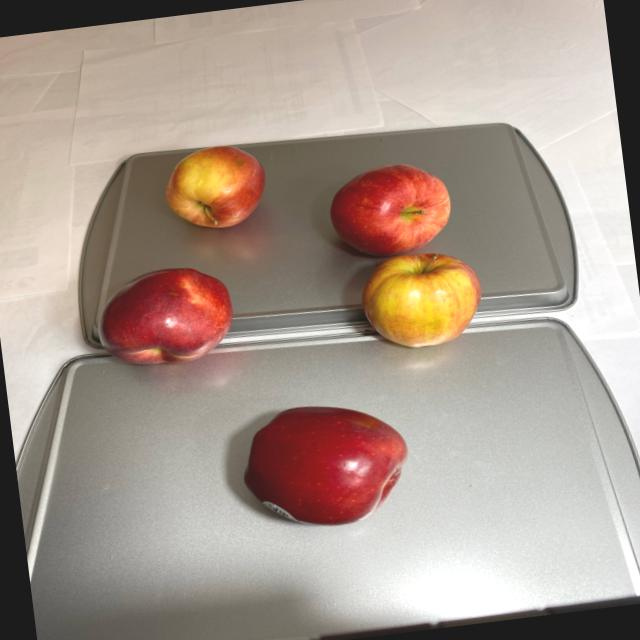apple: (75, 116, 508, 556)
